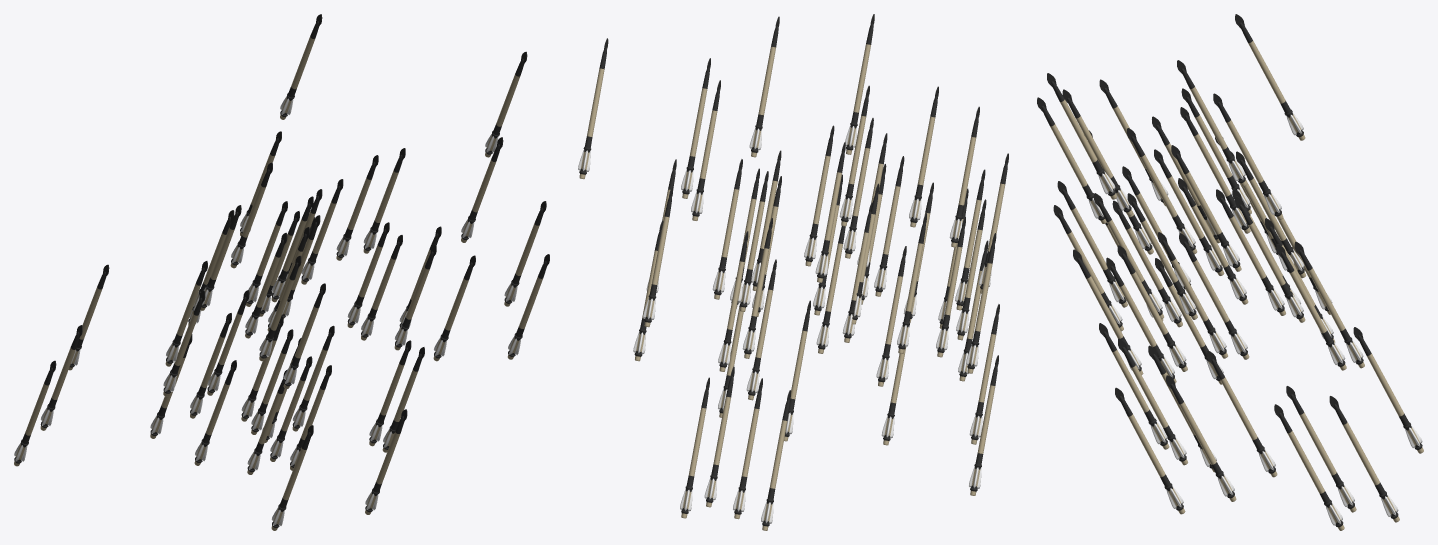
The picture shows the model from 3 angles, left to right: view 1: azimuth 30°, elevation 25°; view 2: azimuth 150°, elevation 25°; view 3: azimuth 270°, elevation 25°; orthographic projection. The views are drawn at different scales.
Visible parts, largest first — view 1: B2; view 2: B2; view 3: B2.
Part boxes in pixels (box(x1,y1,x2,y2)): B2: box(14, 14, 549, 530); B2: box(578, 14, 1008, 530); B2: box(1037, 14, 1423, 530).
Bounding box in the file's own units: 1.25 × 1.3 × 0.9045.
